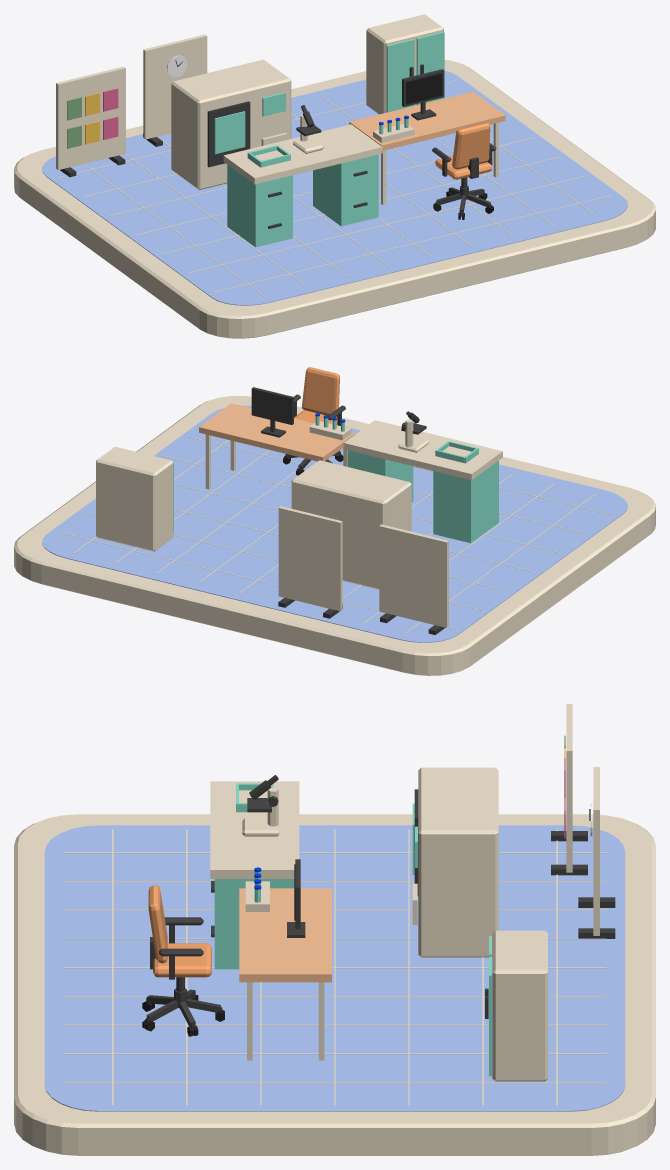
3 views of the same model, one above another, from view 1: azimuth 30°, elevation 25°; view 2: azimuth 150°, elevation 25°; view 3: azimuth 270°, elevation 25° (orthographic). The views are drawn at different scales.
Visible parts, largest first — view 1: COM-02 Floor Surface, COM-01 Rounded Base Direct, Analysis cabinet, Top, Panel, Storage module, Worktop, Panel.001, Storage module.001, COM-04_Chair_blender_direct, Equipment case, Door (+7 smaller); view 2: COM-02 Floor Surface, COM-01 Rounded Base Direct, Analysis cabinet, Equipment case, Panel, Panel.001, Top, Storage module, Worktop, COM-04_Chair_blender_direct, Frame, Storage module.001 (+1 smaller); view 3: COM-02 Floor Surface, COM-01 Rounded Base Direct, Analysis cabinet, Top, Equipment case, Worktop, COM-04_Chair_blender_direct, Storage module.001, Panel.001, Panel, Grout X.007, Grout X.006 (+3 smaller).
Part boxes in pixels (left/top/right/bottom): COM-02 Floor Surface: left=42, top=71, right=627, bottom=305; COM-01 Rounded Base Direct: left=14, top=59, right=655, bottom=338; Analysis cabinet: left=171, top=59, right=291, bottom=189; Top: left=349, top=91, right=505, bottom=204; Panel: left=56, top=66, right=125, bottom=169; Storage module: left=227, top=165, right=292, bottom=247; Worktop: left=223, top=124, right=382, bottom=184; Panel.001: left=143, top=34, right=207, bottom=139; Storage module.001: left=313, top=154, right=378, bottom=226; COM-04_Chair_blender_direct: left=432, top=122, right=496, bottom=219; Equipment case: left=366, top=14, right=443, bottom=114; Door: left=386, top=39, right=414, bottom=112; COM-02 Floor Surface: left=42, top=405, right=627, bottom=642; COM-01 Rounded Base Direct: left=14, top=396, right=655, bottom=675; Analysis cabinet: left=291, top=460, right=411, bottom=589; Equipment case: left=96, top=446, right=173, bottom=551; Panel: left=379, top=524, right=448, bottom=627; Panel.001: left=278, top=506, right=342, bottom=611; Top: left=199, top=403, right=355, bottom=489; Storage module: left=433, top=460, right=498, bottom=543; Worktop: left=343, top=420, right=502, bottom=480; COM-04_Chair_blender_direct: left=283, top=367, right=345, bottom=475; Frame: left=251, top=387, right=293, bottom=437; Storage module.001: left=347, top=450, right=413, bottom=502; COM-02 Floor Surface: left=44, top=825, right=625, bottom=1111; COM-01 Rounded Base Direct: left=14, top=814, right=655, bottom=1155; Analysis cabinet: left=418, top=767, right=498, bottom=957; Top: left=239, top=888, right=331, bottom=1060; Equipment case: left=492, top=930, right=547, bottom=1081; Worktop: left=210, top=781, right=299, bottom=878; COM-04_Chair_blender_direct: left=142, top=885, right=224, bottom=1036; Storage module.001: left=214, top=879, right=294, bottom=969; Panel.001: left=593, top=767, right=599, bottom=935; Panel: left=566, top=704, right=572, bottom=872; Grout X.007: left=63, top=1053, right=606, bottom=1054; Grout X.006: left=63, top=1024, right=606, bottom=1025.
Size of the model in its own units: 6 by 1.69 by 5.2.
1 material, 1 textured.
